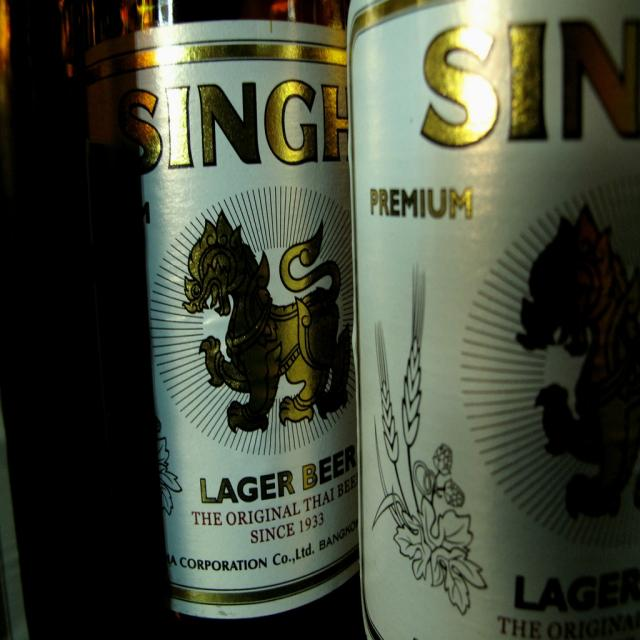singha: (350, 2, 640, 640), (76, 40, 361, 607)
